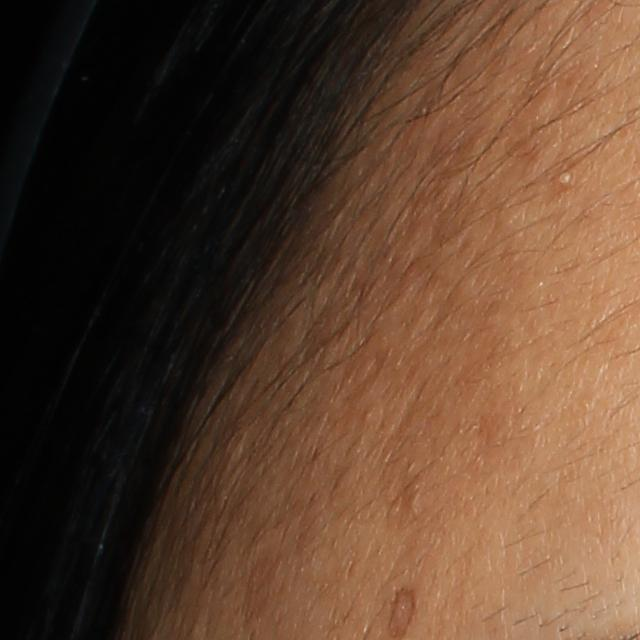comedo: (553, 167, 581, 190)
other: (386, 585, 416, 639)
